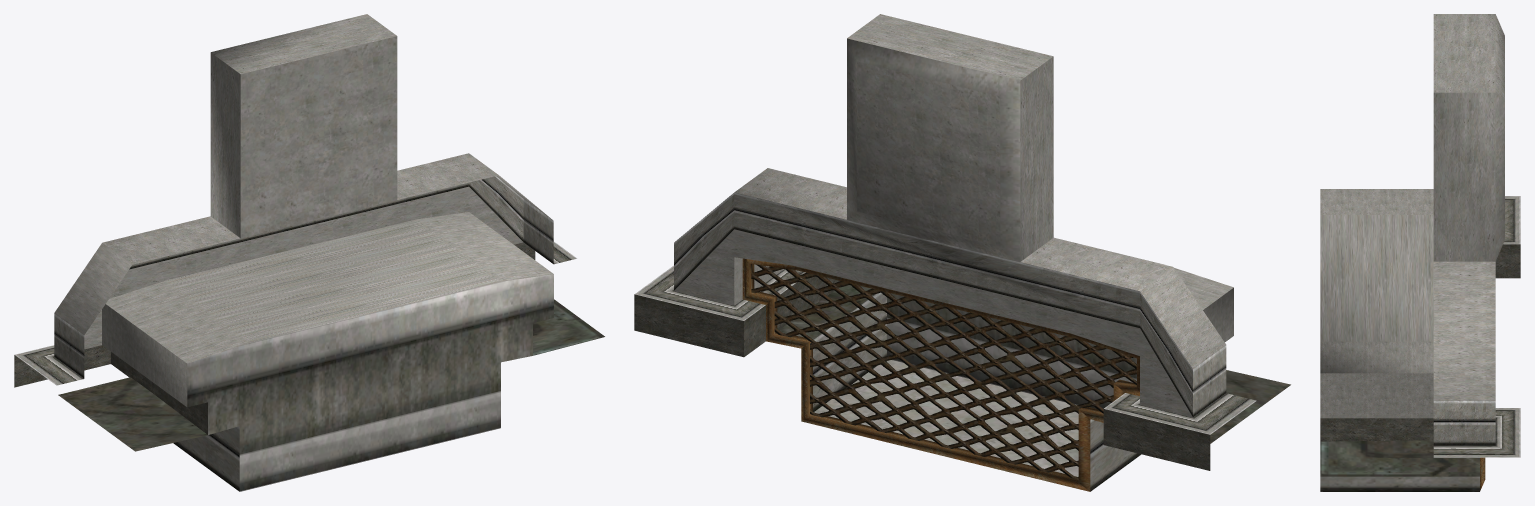
Rendered from DWARF_PALACE_WATERROOM_CANAL_VENT06.fbx.
3 views of the same model, side by side, from view 1: azimuth 30°, elevation 25°; view 2: azimuth 150°, elevation 25°; view 3: azimuth 270°, elevation 25° (orthographic). The views are drawn at different scales.
Visible parts, largest first — view 1: DWARF_PALACE_WATERROOM_CANAL_VENT06; view 2: DWARF_PALACE_WATERROOM_CANAL_VENT06; view 3: DWARF_PALACE_WATERROOM_CANAL_VENT06.
Part boxes in pixels (left/top/right/bottom): DWARF_PALACE_WATERROOM_CANAL_VENT06: left=14, top=14, right=604, bottom=491; DWARF_PALACE_WATERROOM_CANAL_VENT06: left=634, top=14, right=1290, bottom=491; DWARF_PALACE_WATERROOM_CANAL_VENT06: left=1320, top=14, right=1520, bottom=491.
Bounding box in the file's own units: 49831 × 33273 × 16097.
7 materials, 7 textured.
